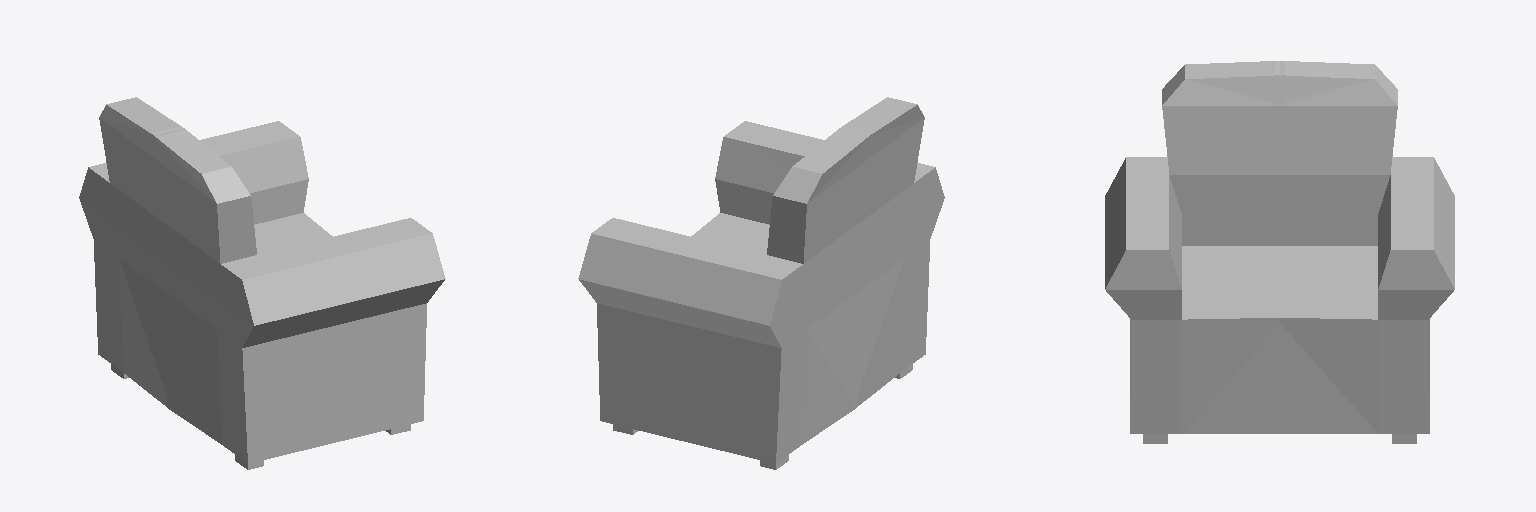
Rendered from sofa1.obj.
The picture shows the model from 3 angles: view 1: azimuth 30°, elevation 25°; view 2: azimuth 150°, elevation 25°; view 3: azimuth 270°, elevation 25°; orthographic projection.
Parts seen in each view (by area): view 1: sofa; view 2: sofa; view 3: sofa.
Boxes of the visible parts, x1,y1,x2,y2 form: sofa: [79, 97, 445, 469]; sofa: [578, 97, 944, 469]; sofa: [1105, 61, 1454, 443].
Size of the model in its own units: 0.7289 by 0.9927 by 1.08.